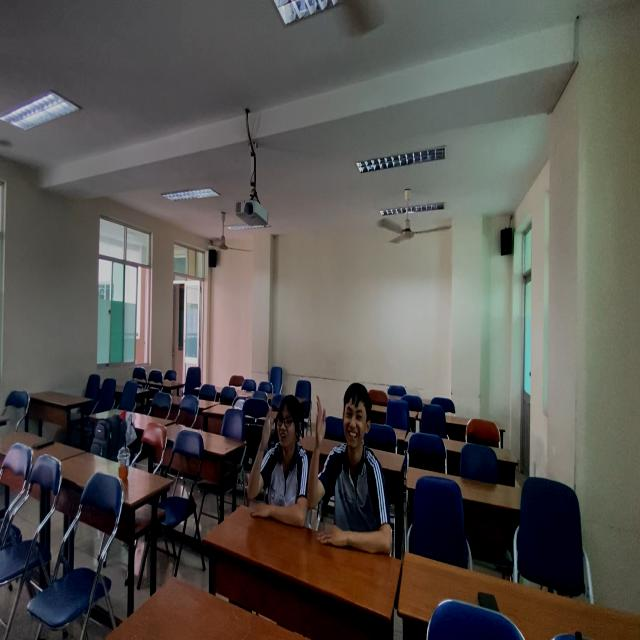raise_hand: (307, 377, 394, 554), (242, 391, 310, 534)
